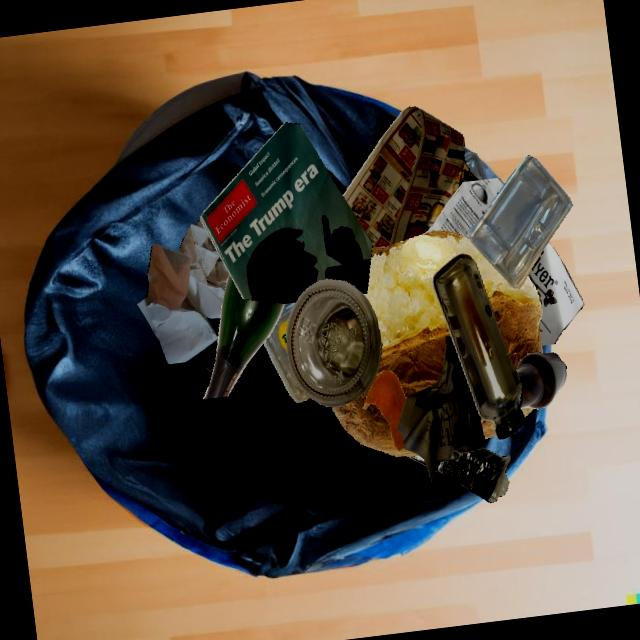biowaste: (363, 230, 513, 399), (393, 314, 502, 445), (502, 275, 542, 369), (362, 370, 407, 450)
glass: (432, 253, 524, 439), (286, 279, 382, 406), (203, 273, 284, 398), (515, 352, 566, 409)
paper: (200, 122, 372, 303), (342, 106, 479, 247), (137, 220, 229, 364), (397, 335, 485, 484), (527, 241, 583, 345), (424, 177, 504, 240)
plastic: (468, 154, 572, 288), (263, 302, 309, 402), (435, 447, 509, 502), (463, 151, 488, 180)
